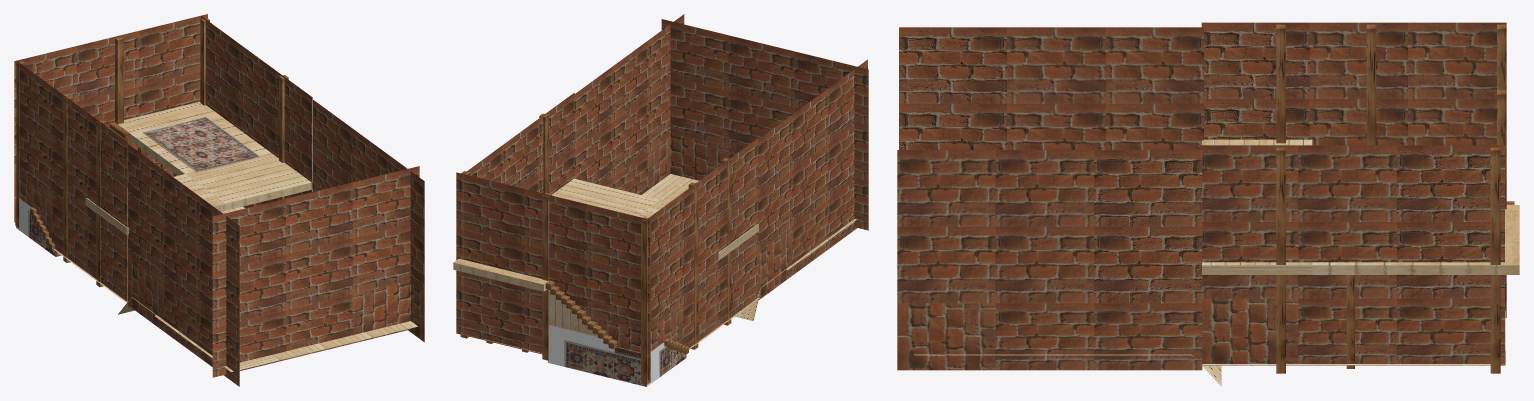
The model's file is LivingRoomScene.fbx.
The picture shows the model from 3 angles, left to right: view 1: azimuth 30°, elevation 25°; view 2: azimuth 150°, elevation 25°; view 3: azimuth 270°, elevation 25°; orthographic projection. The views are drawn at different scales.
Parts seen in each view (by area): view 1: Cube; view 2: Cube; view 3: Cube.
Part boxes in pixels (bbox=[...]): Cube: bbox=[14, 14, 424, 386]; Cube: bbox=[453, 14, 868, 386]; Cube: bbox=[897, 22, 1519, 386].
Size of the model in its own units: 855 by 701 by 1631.
1 material, 1 textured.
